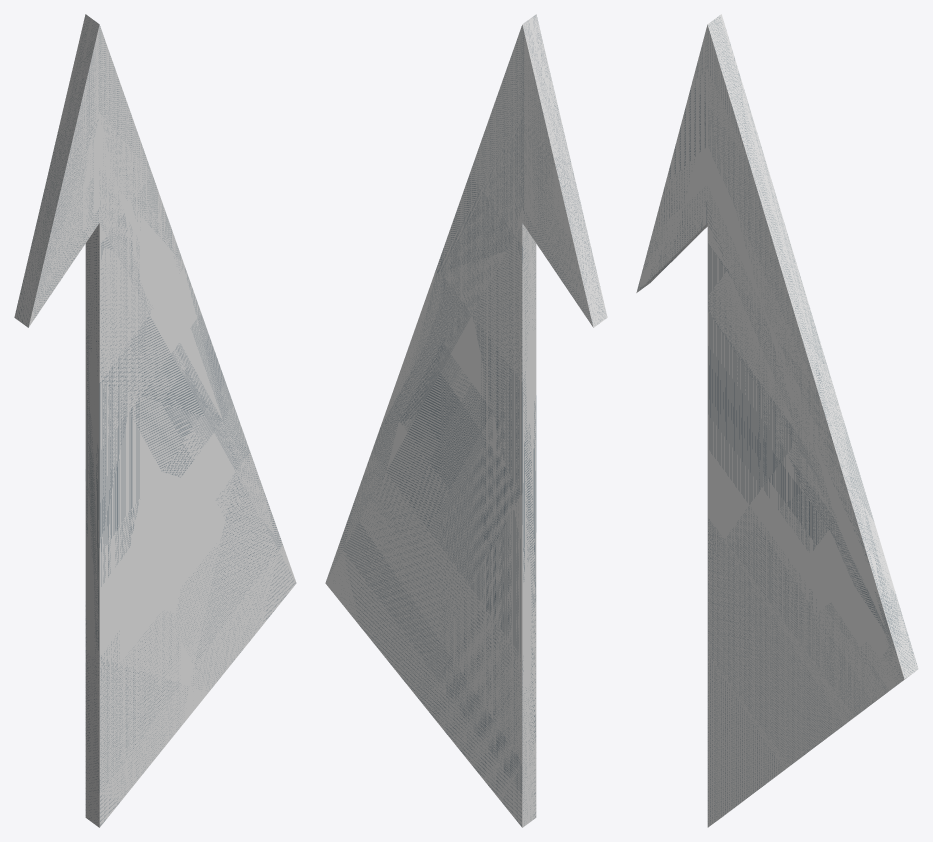
Rendered from senti-mesh-pain-2.dae.
3 renders of one model, left to right at view 1: azimuth 30°, elevation 25°; view 2: azimuth 150°, elevation 25°; view 3: azimuth 330°, elevation 25°, orthographic.
Parts seen in each view (by area): view 1: group_0; view 2: group_0; view 3: group_0.
Boxes of the visible parts, x1=… form: group_0: x1=14, y1=14, x2=296, y2=827; group_0: x1=325, y1=14, x2=607, y2=827; group_0: x1=636, y1=14, x2=918, y2=827.
Size of the model in its own units: 16.07 by 1.47 by 46.02.
